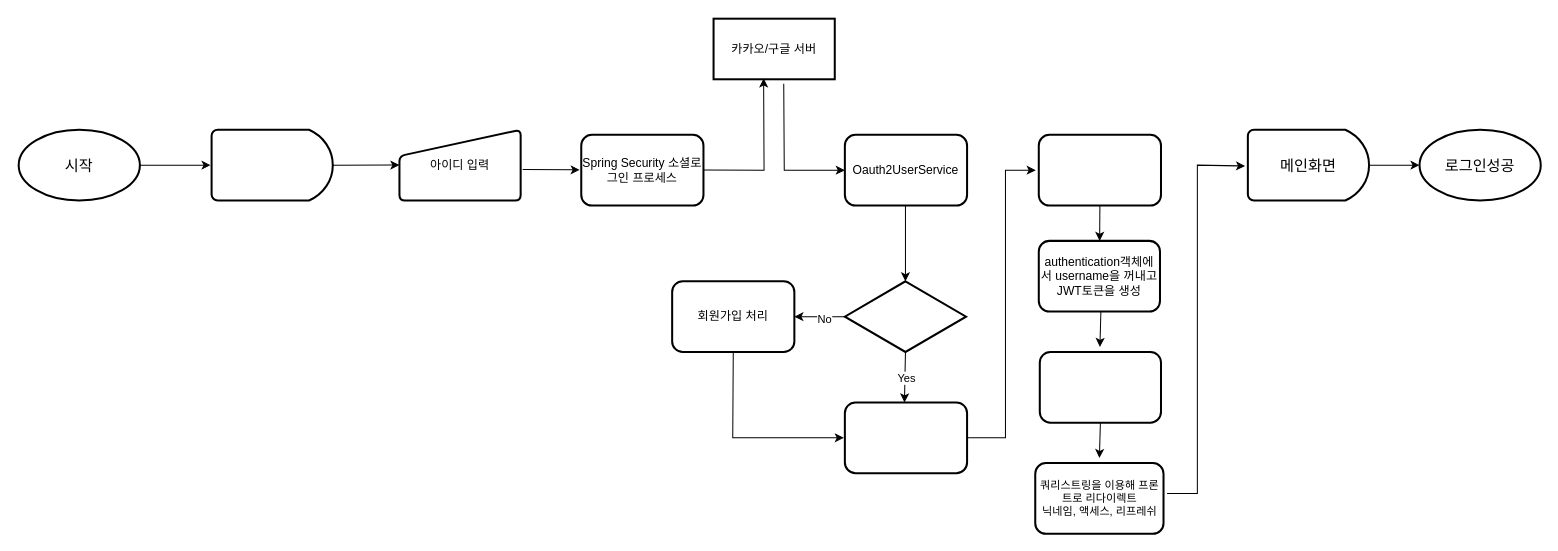
Image size: 1558x551. Some labels were removed from this diagram. The shapes that lost their labels are listed below. From the top down, each one's centre as x and y in pixels, then its label:
(x=271, y=164): 로그인화면
(x=1099, y=169): AuthenticationSuccess Handler
(x=905, y=316): DB에 정보가 있나?
(x=1100, y=386): memberEntity에 refreshToken저장
(x=905, y=437): MemberEntity와 Oauth2User객체를 이용해 Principal 객체 생성 및 반환
